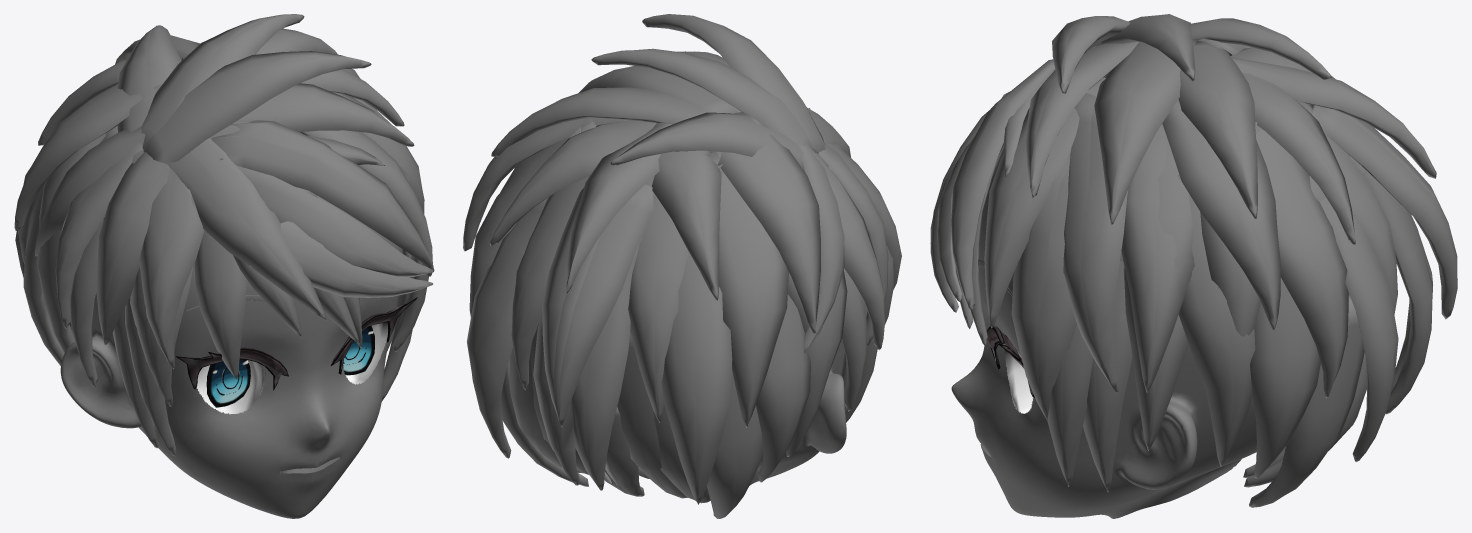
File: Anime Hair 19.fbx
3 views of the same model, side by side, from view 1: azimuth 30°, elevation 25°; view 2: azimuth 150°, elevation 25°; view 3: azimuth 270°, elevation 25° (orthographic). The views are drawn at different scales.
Visible parts, largest first — view 1: Front_parts14_78, Front_parts13_185, Front_parts13_177, Front_parts13_173, Front_parts13_178, Front_parts13_179, Front_parts13_186, Front_parts13_172, Front_parts13_199, Front_parts13_181, Front_parts13_188, Front_parts13_193 (+22 smaller); view 2: Front_parts13_205, Front_parts13_201, Front_parts13_202, Front_parts13_199, Front_parts13_196, Front_parts13_203, Front_parts13_204, Front_parts13_172, Front_parts13_206, Front_parts13_208, Front_parts13_192, Front_parts13_197 (+16 smaller); view 3: Front_parts14_78, Front_parts13_201, Front_parts13_178, Front_parts13_199, Front_parts13_193, Front_parts13_190, Front_parts13_209, Front_parts13_195, Front_parts13_206, Front_parts13_192, Front_parts13_189, Front_parts13_205 (+23 smaller).
Part boxes in pixels (box(x1,y1,x2,y2)): Front_parts14_78: box(60, 195, 402, 518); Front_parts13_185: box(211, 120, 434, 270); Front_parts13_177: box(167, 138, 326, 320); Front_parts13_173: box(145, 51, 371, 164); Front_parts13_178: box(96, 92, 424, 345); Front_parts13_179: box(139, 168, 204, 369); Front_parts13_186: box(219, 158, 433, 276); Front_parts13_172: box(141, 14, 304, 152); Front_parts13_199: box(14, 57, 360, 230); Front_parts13_181: box(194, 230, 246, 379); Front_parts13_188: box(239, 83, 414, 146); Front_parts13_193: box(55, 98, 391, 328); Front_parts13_205: box(467, 211, 732, 504); Front_parts13_201: box(469, 117, 788, 427); Front_parts13_202: box(511, 175, 689, 422); Front_parts13_199: box(463, 112, 820, 334); Front_parts13_196: box(490, 120, 721, 300); Front_parts13_203: box(542, 184, 653, 427); Front_parts13_204: box(533, 238, 642, 490); Front_parts13_172: box(591, 48, 818, 153); Front_parts13_206: box(756, 294, 810, 482); Front_parts13_208: box(501, 358, 763, 518); Front_parts13_192: box(491, 87, 706, 156); Front_parts13_197: box(566, 123, 672, 294); Front_parts14_78: box(951, 76, 1349, 518); Front_parts13_201: box(1243, 45, 1348, 398); Front_parts13_178: box(1063, 46, 1128, 393); Front_parts13_199: box(1162, 38, 1280, 330); Front_parts13_193: box(1121, 129, 1193, 392); Front_parts13_190: box(1011, 153, 1076, 421); Front_parts13_209: box(1177, 174, 1255, 466); Front_parts13_195: box(1094, 39, 1197, 224); Front_parts13_206: box(1250, 277, 1320, 478); Front_parts13_192: box(1178, 40, 1257, 218); Front_parts13_189: box(984, 77, 1105, 327); Front_parts13_205: box(1320, 198, 1398, 462).
Bounding box in the file's own units: 0.3039 × 0.3543 × 0.3396.
Materials: 46 (2 with a texture image).
